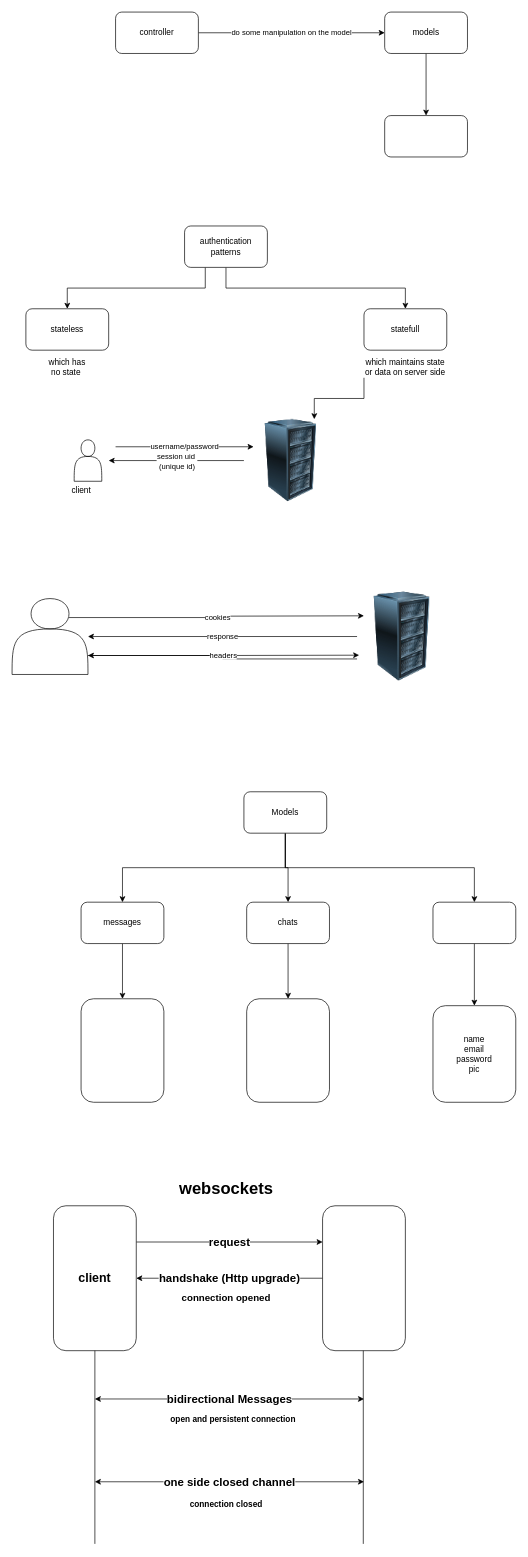
The diagram is 528 pixels wide and 1557 high, and some of its shapes have lost their labels. The shapes that lost their labels are listed below. From the top down, each one's box as (x1, y1, x2, y2) in pixels, then its label:
(384, 115, 467, 157): views
(432, 901, 516, 944): users
(80, 998, 164, 1102): sender id content chat
(246, 998, 329, 1102): chatName isGroupchat users latestMessage groupAdmin
(322, 1205, 405, 1351): server
